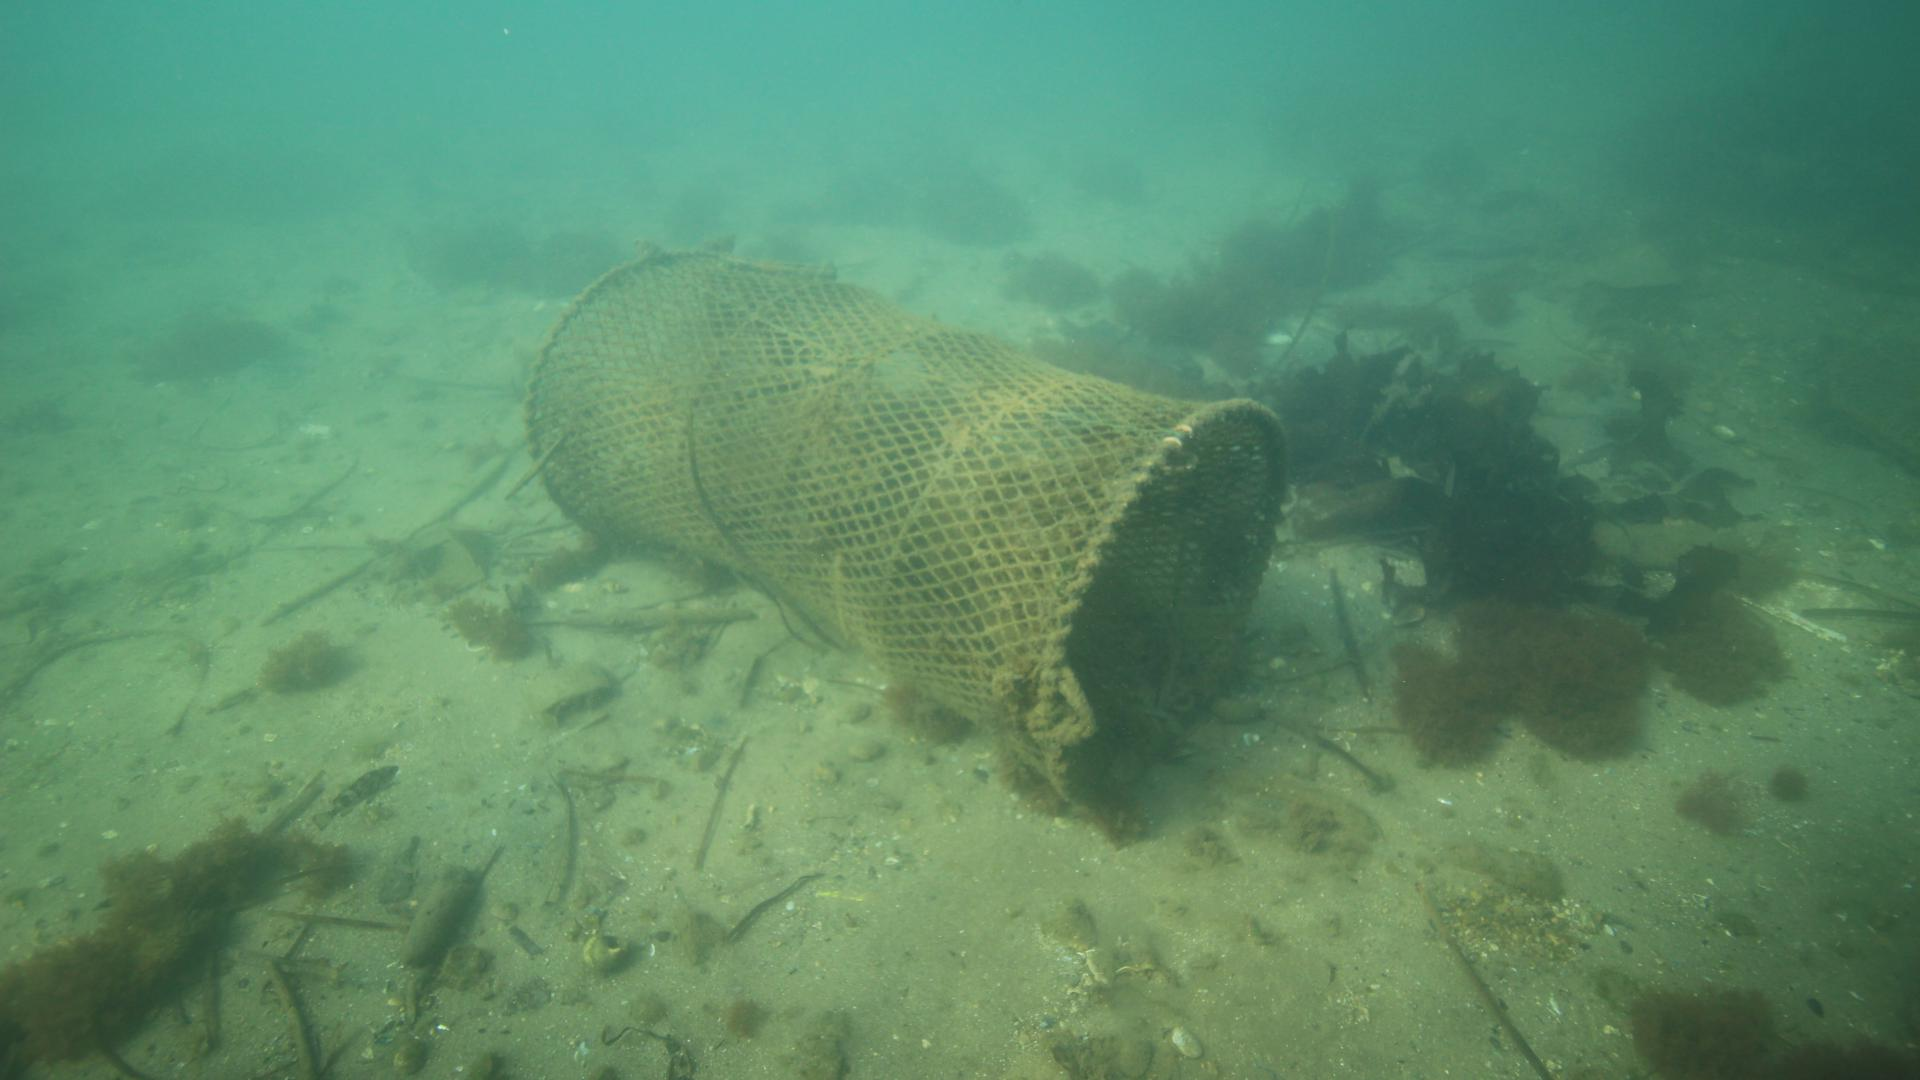spring fish trap: (522, 243, 1294, 823)
